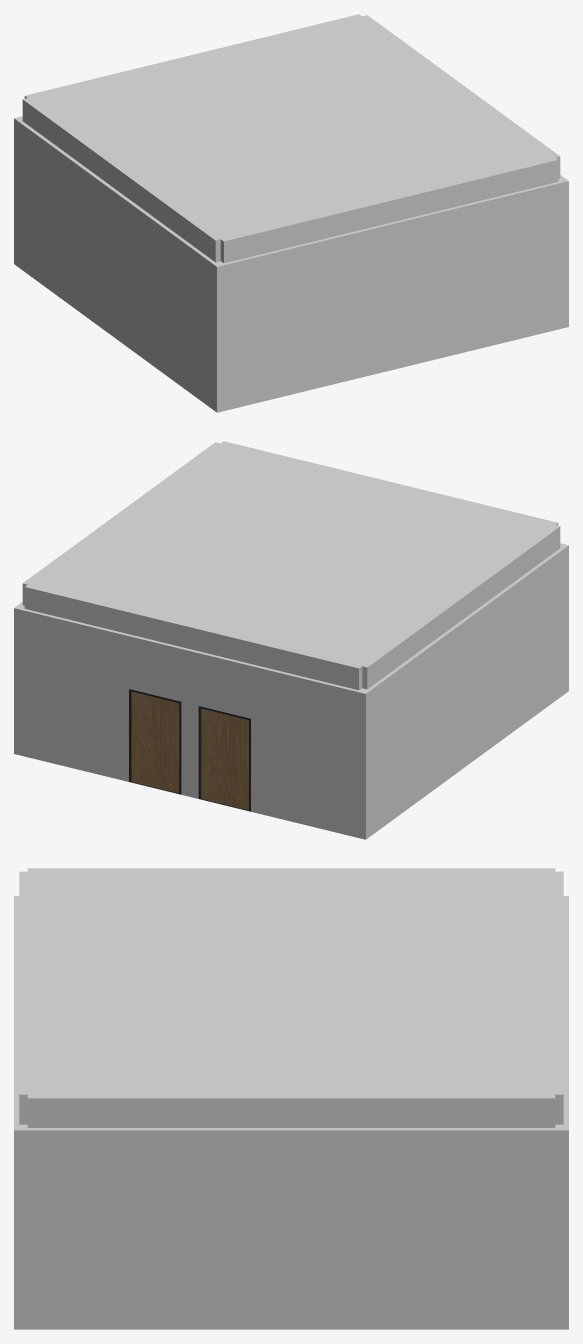
File: room-compression5.glb
The picture shows the model from 3 angles, top to bottom: view 1: azimuth 30°, elevation 25°; view 2: azimuth 150°, elevation 25°; view 3: azimuth 270°, elevation 25°; orthographic projection. The views are drawn at different scales.
Parts seen in each view (by area): view 1: room; view 2: room, link1-door, link0-door, door-frame, door-frame.001; view 3: room.
Boxes of the visible parts, x1,y1,x2,y2 form: room: [14, 14, 568, 412]; room: [14, 441, 568, 839]; link1-door: [131, 691, 179, 792]; link0-door: [201, 708, 248, 810]; door-frame: [198, 706, 250, 811]; door-frame.001: [129, 689, 181, 794]; room: [14, 868, 568, 1329].
Bounding box in the file's own units: 10.1 × 4.6 × 10.1.
7 materials, 3 textured.
